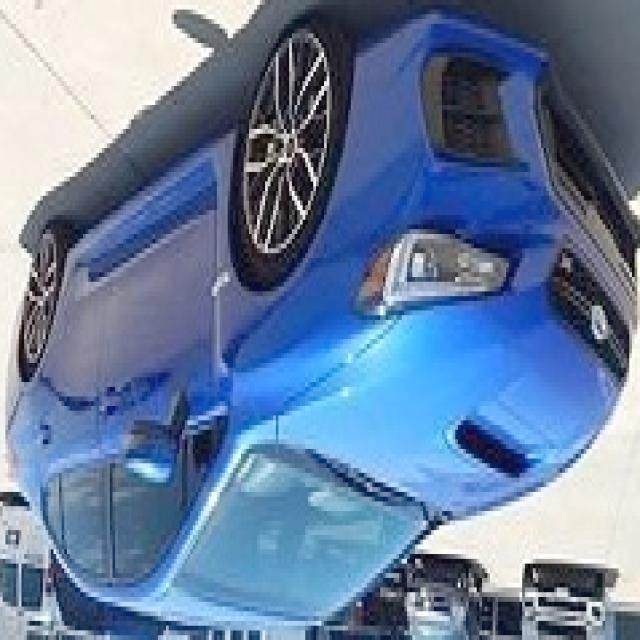blue: (7, 0, 640, 630)
